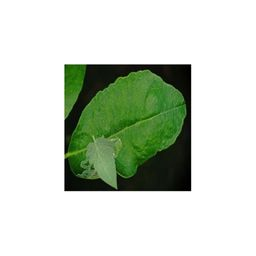liriomyza: (77, 160, 99, 179)
